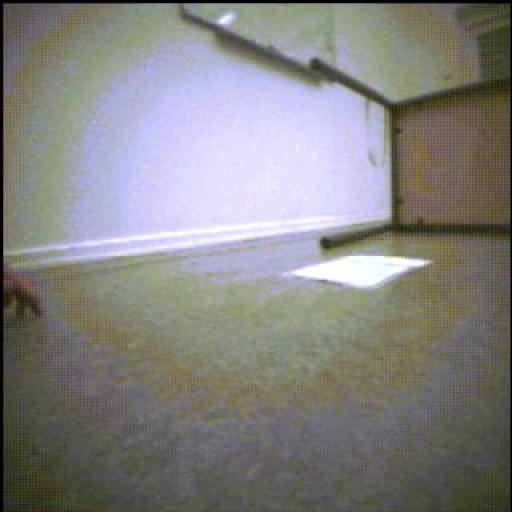Pad: (291, 257, 432, 289)
